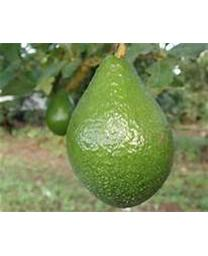avocado: (65, 54, 174, 208), (45, 81, 76, 135)
